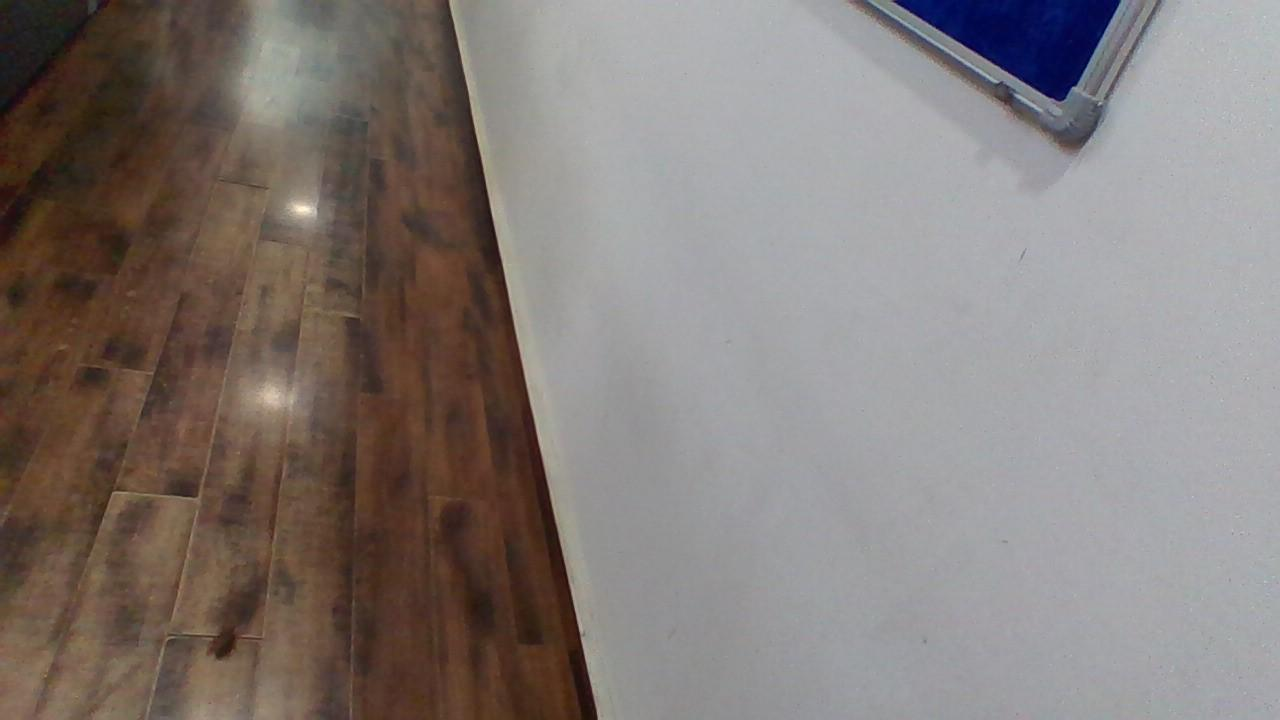cockroach: (202, 616, 245, 666)
